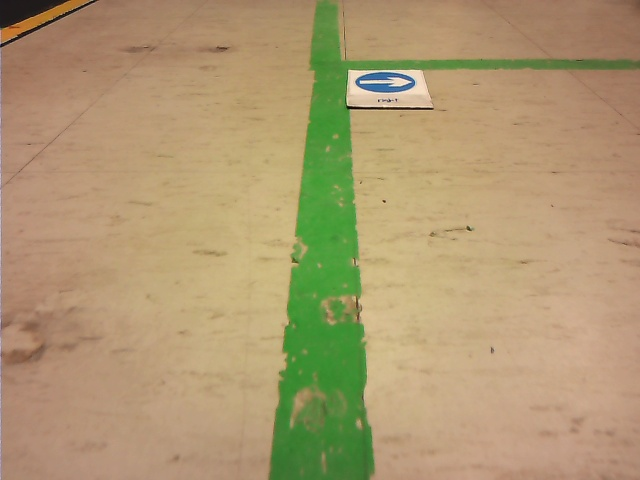TURN RIGHT: (356, 72, 415, 92)
